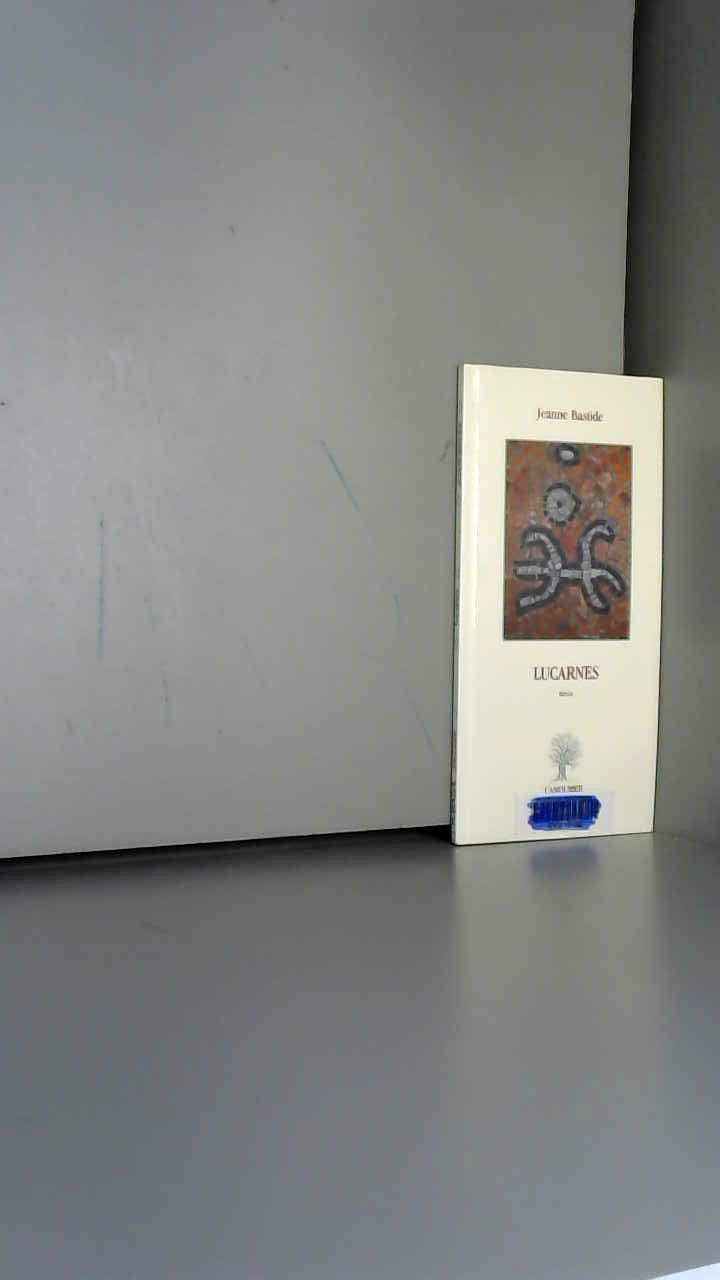book: (430, 340, 720, 924)
